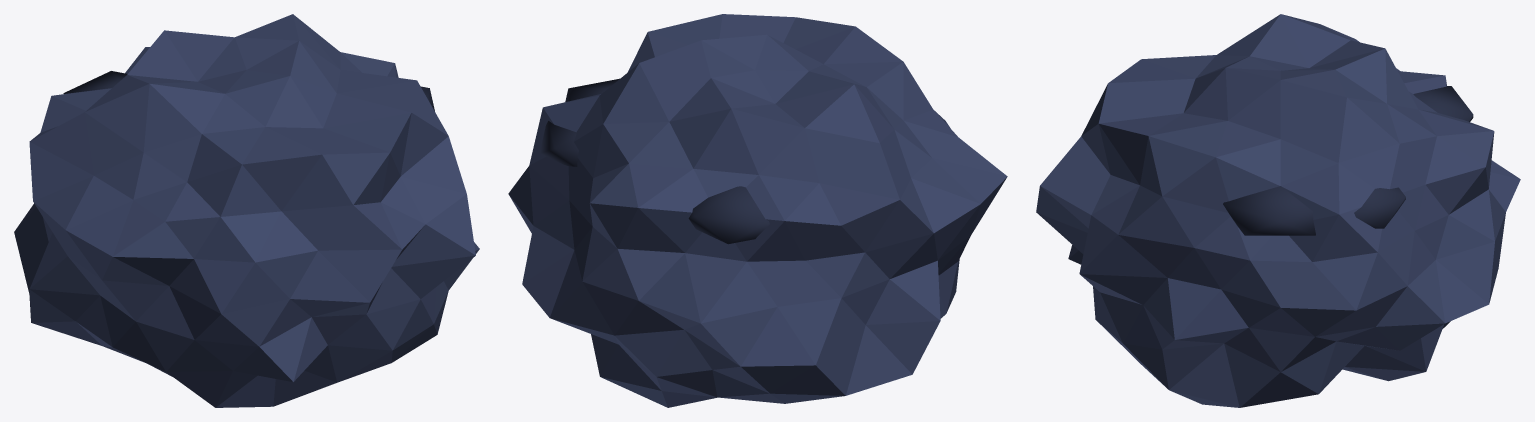
The model's file is asteroid_a.glb.
The picture shows the model from 3 angles, left to right: view 1: azimuth 30°, elevation 25°; view 2: azimuth 150°, elevation 25°; view 3: azimuth 270°, elevation 25°; orthographic projection. The views are drawn at different scales.
Parts seen in each view (by area): view 1: asteroid_a; view 2: asteroid_a; view 3: asteroid_a.
Part boxes in pixels (bbox=[...]): asteroid_a: bbox=[14, 14, 479, 407]; asteroid_a: bbox=[508, 14, 1007, 407]; asteroid_a: bbox=[1036, 14, 1520, 407].
Size of the model in its own units: 1.92 by 1.46 by 2.02.
